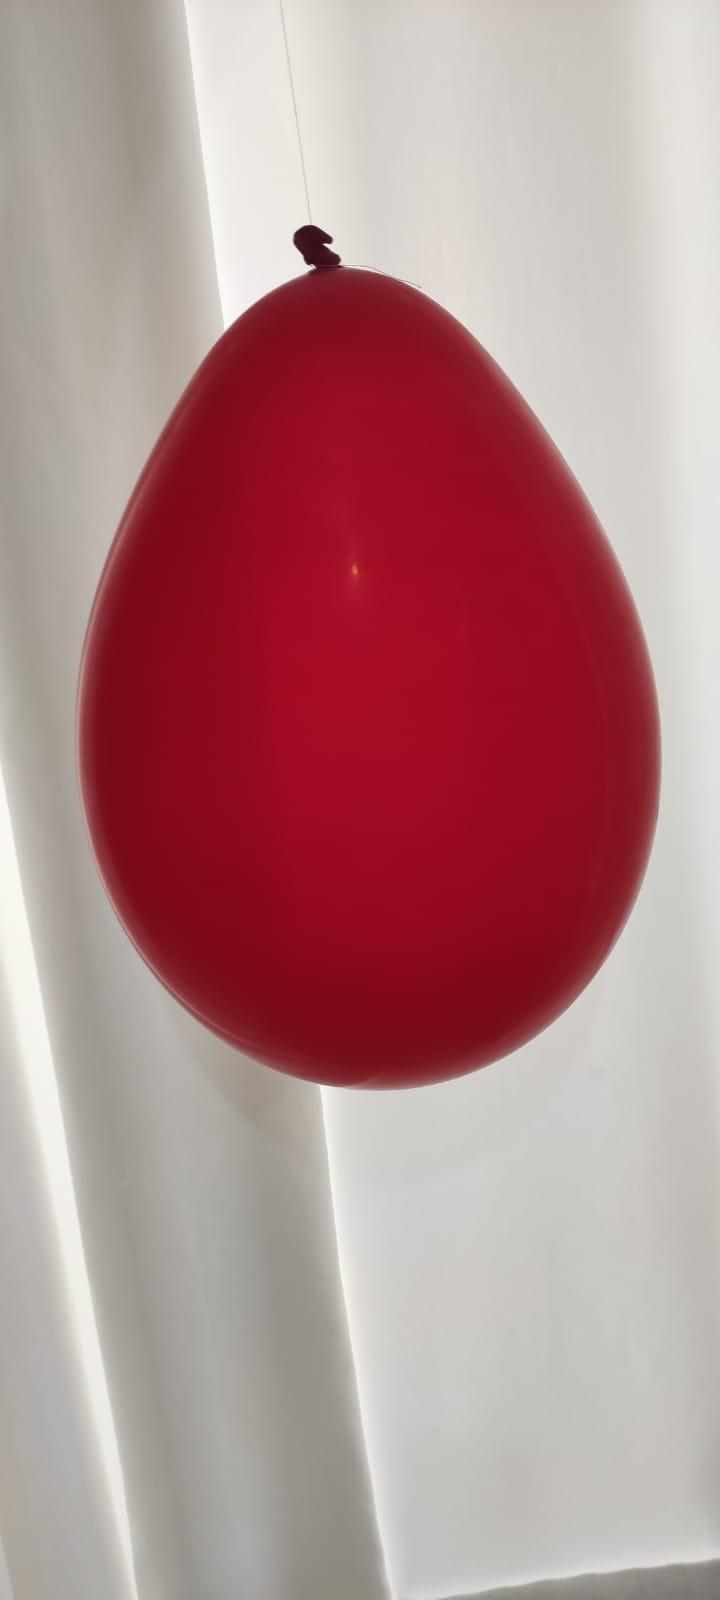red: (70, 214, 670, 1101)
